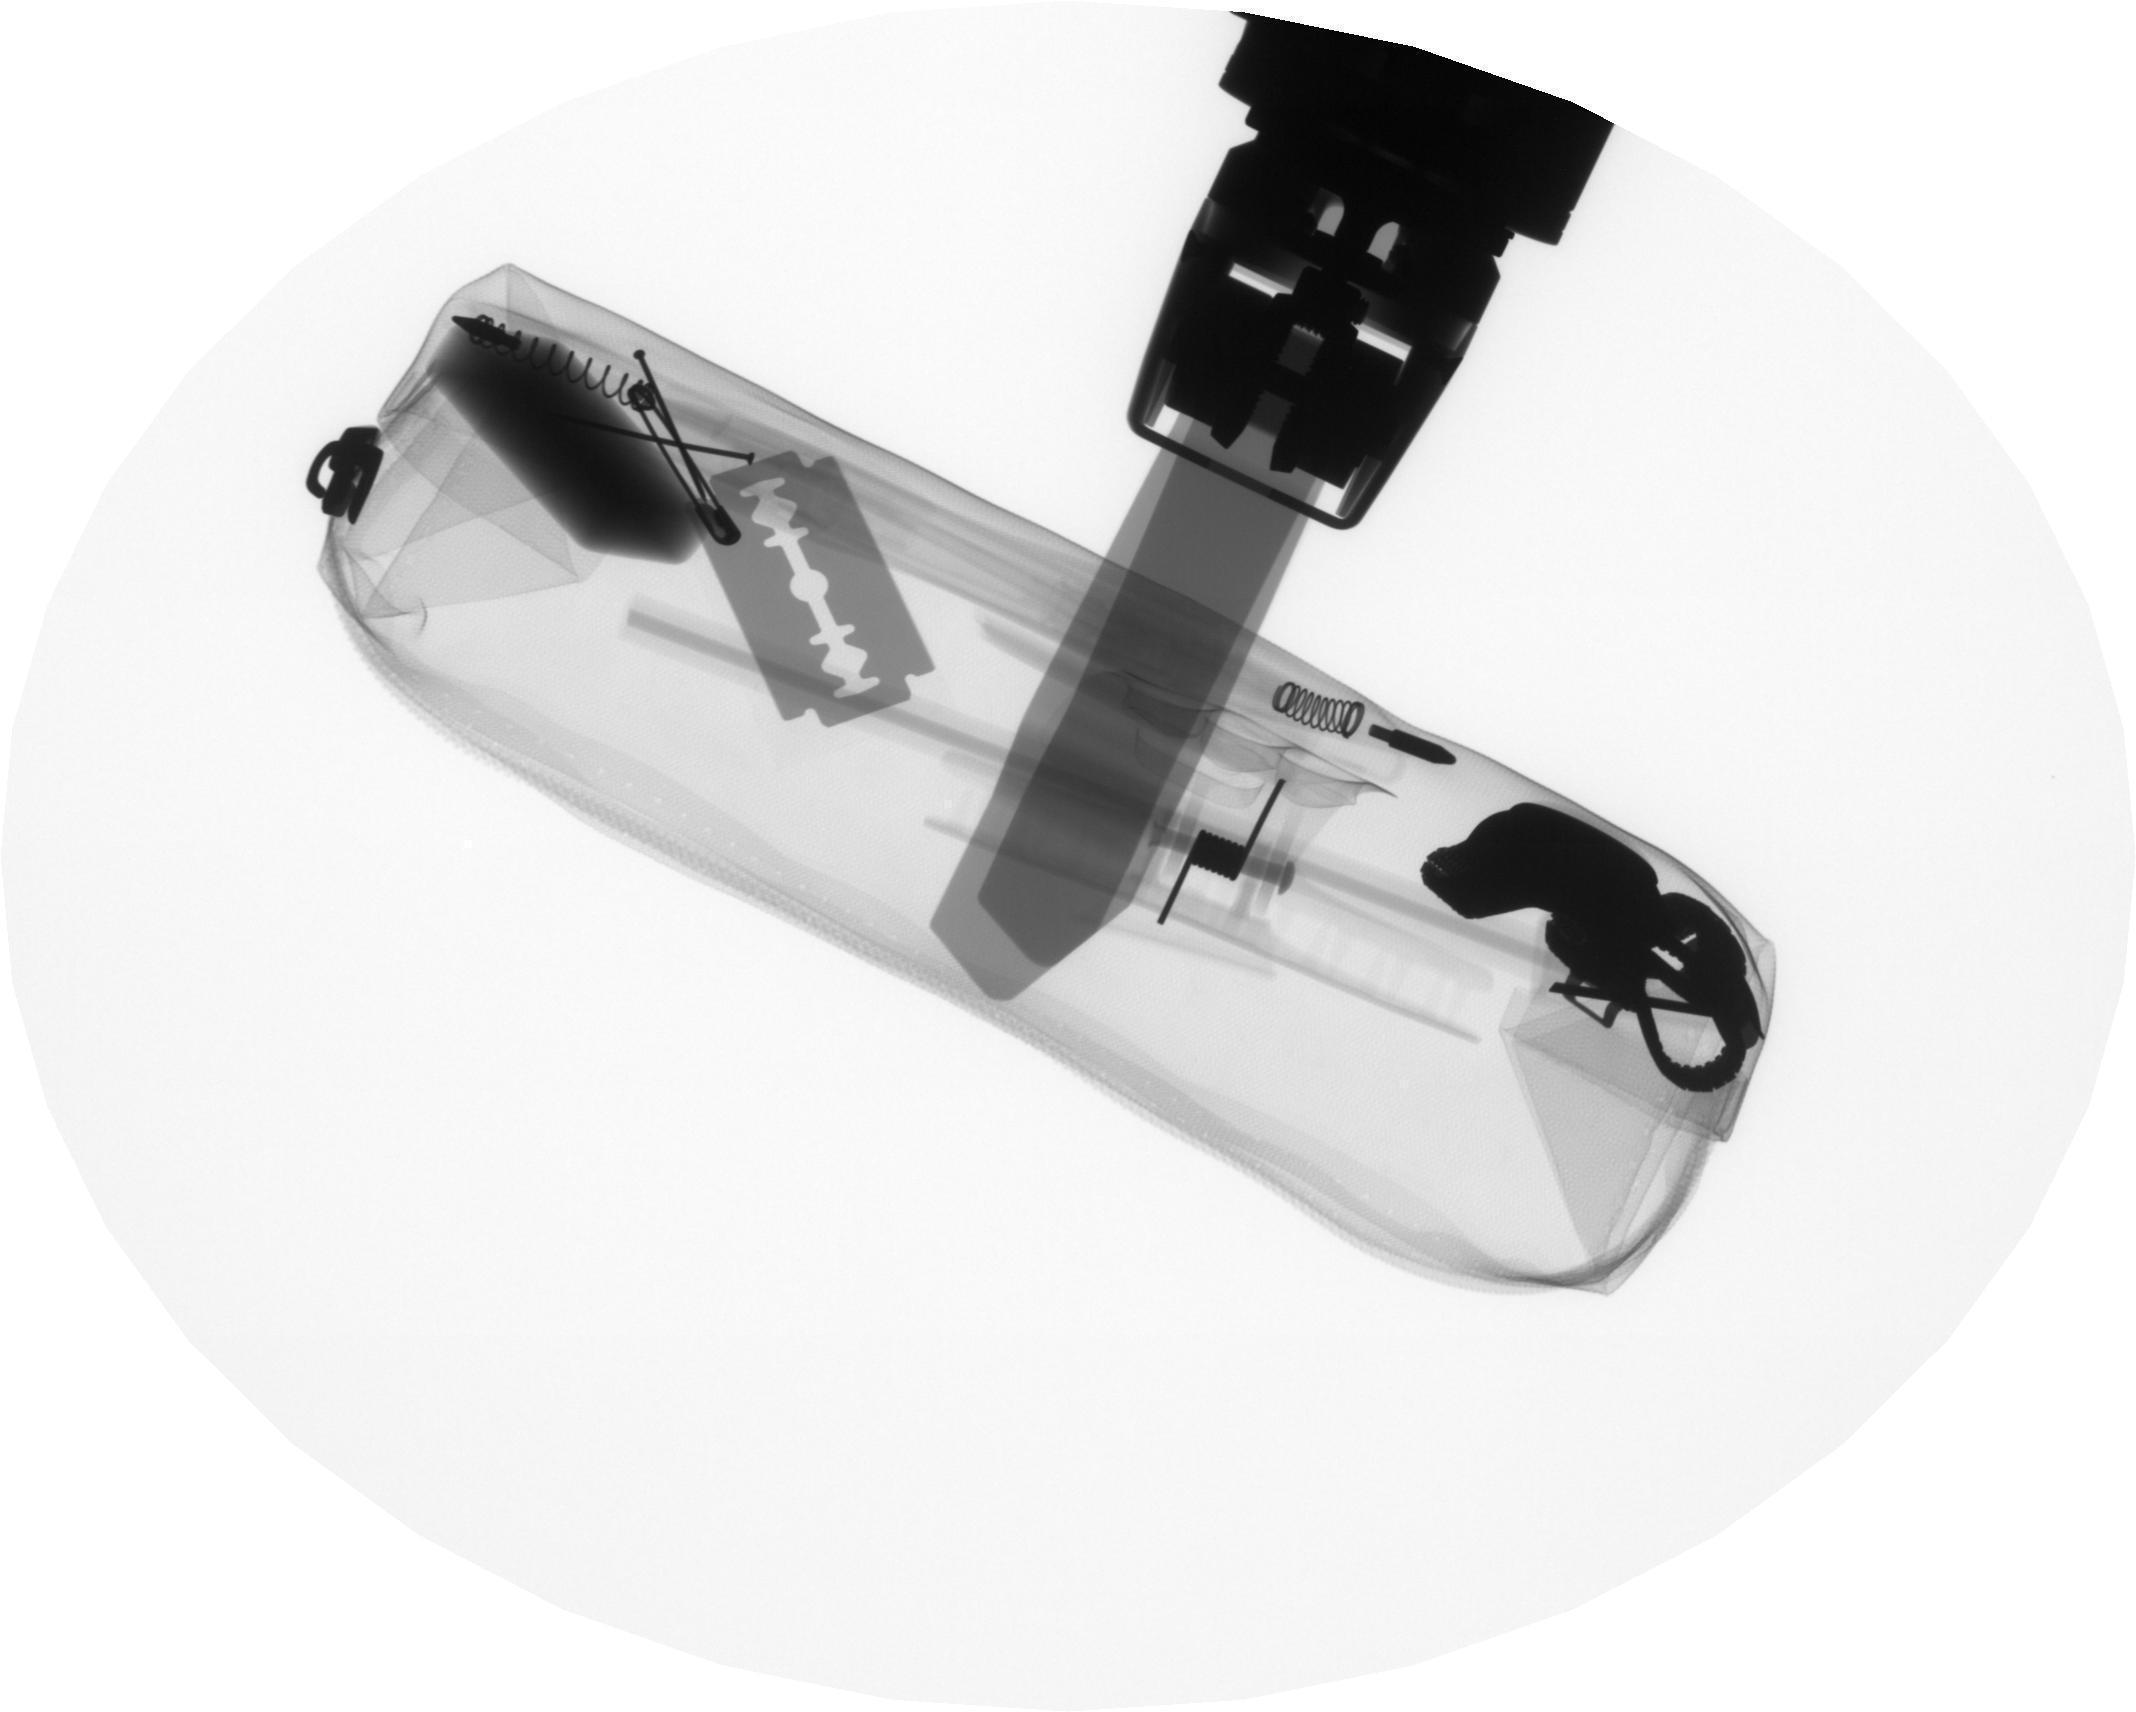RazorBlade: (693, 442, 943, 734)
